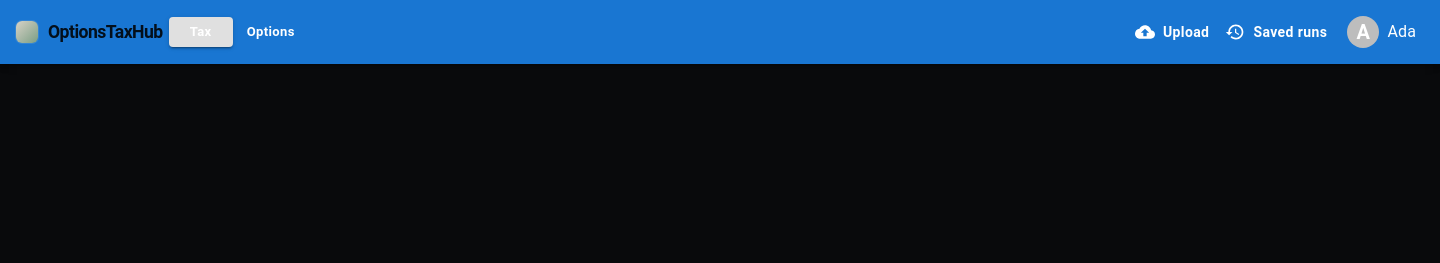
Scenario: AppShell › opens Settings from the account menu
Click the button with test id "header-account": (1382,32) [1339, 10, 1424, 54]
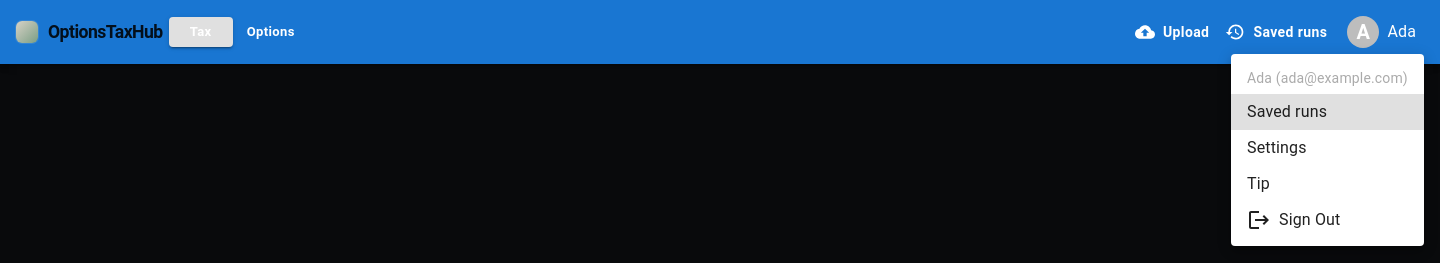
Click the menu item "Settings": (1277,148) [1247, 138, 1307, 157]
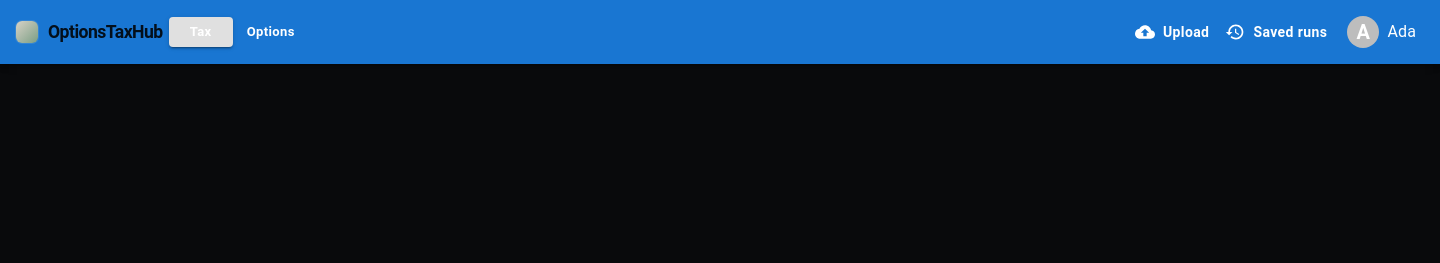
Now the menu item "Settings" is gone
